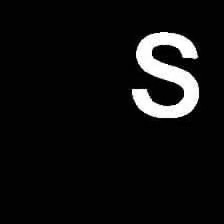LTR_S: (124, 23, 203, 123)
